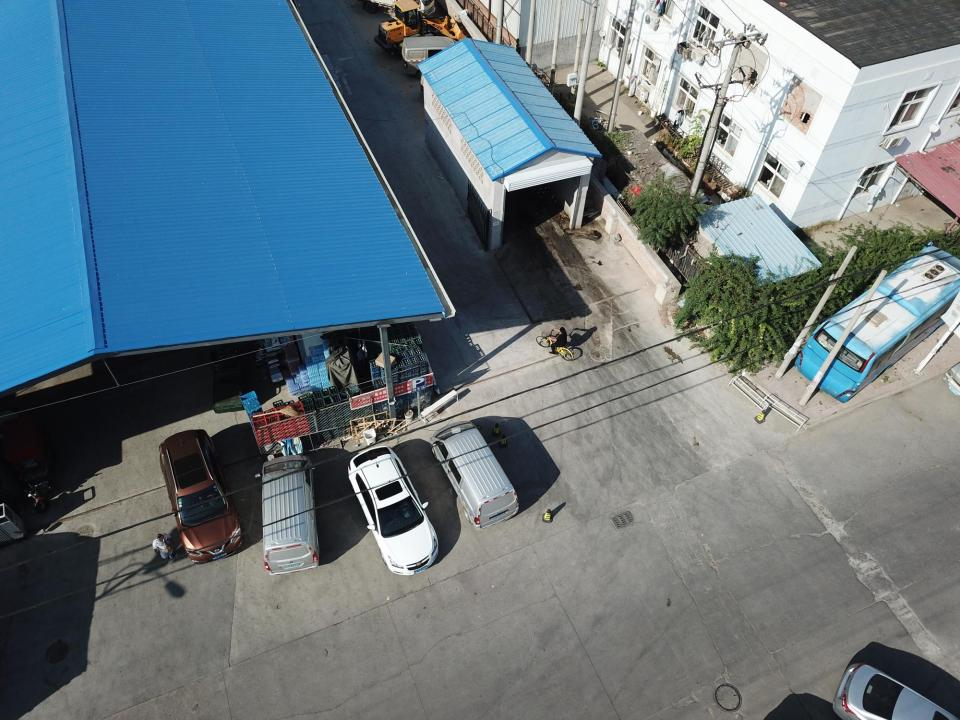bus: (794, 247, 960, 403)
car: (348, 446, 438, 575), (158, 430, 244, 564), (831, 664, 960, 719)
van: (430, 421, 520, 528), (254, 455, 319, 576), (402, 36, 467, 73)
